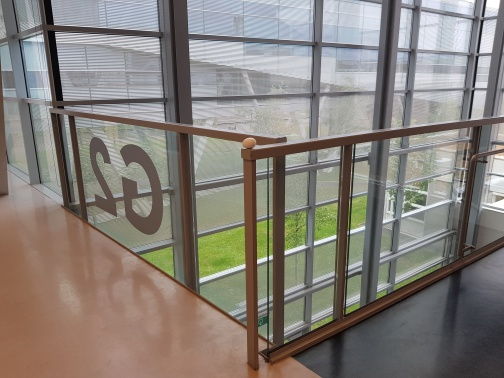egg: (241, 136, 259, 148)
